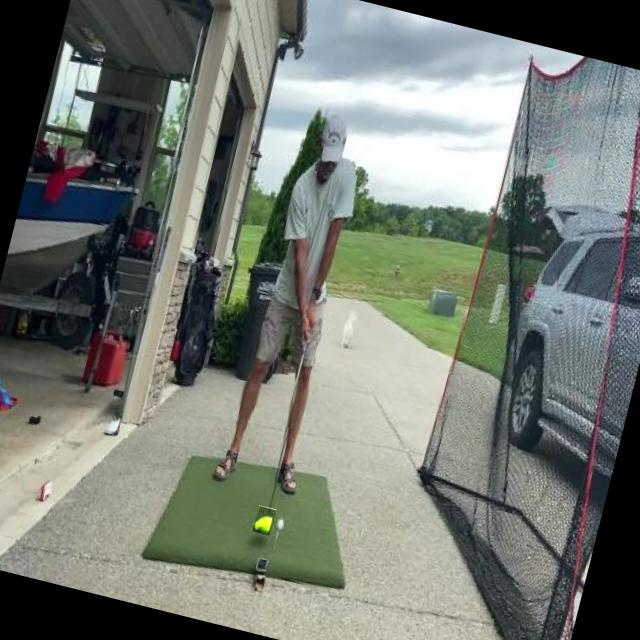club head: (252, 504, 276, 536)
